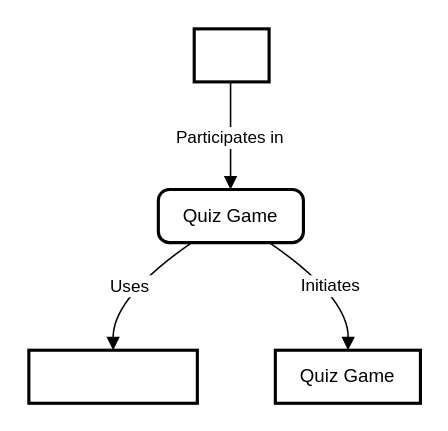
Image size: 448x431. Some labels were removed from this diagram. The shapes that lost their labels are listed below. From the top down, each one's centre as x and y in pixels, then its label:
[231,55]: User
[112,376]: Ask Question
